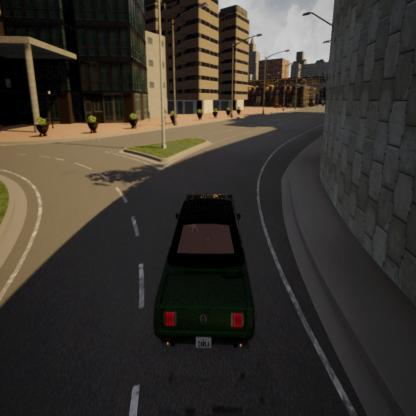Cars: (144, 175, 262, 363)
